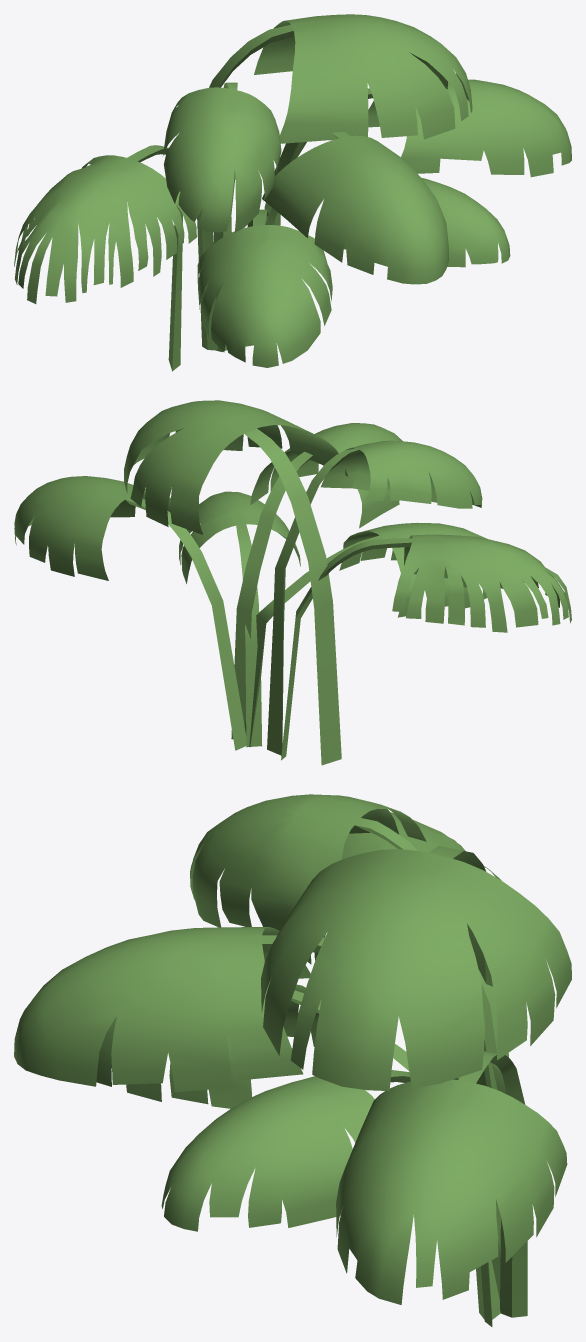
File: plant_cover_fantasy_A.fbx
3 views of the same model, one above another, from view 1: azimuth 30°, elevation 25°; view 2: azimuth 150°, elevation 25°; view 3: azimuth 270°, elevation 25° (orthographic). The views are drawn at different scales.
Visible parts, largest first — view 1: plant_cover_A_fantasy_leaf_05, plant_cover_fantasy_A, plant_cover_A_fantasy_leaf_01, plant_cover_A_fantasy_leaf_04, plant_cover_A_fantasy_leaf_06, plant_cover_A_fantasy_leaf_03; view 2: plant_cover_fantasy_A, plant_cover_A_fantasy_leaf_05, plant_cover_A_fantasy_leaf_03, plant_cover_A_fantasy_leaf_06, plant_cover_A_fantasy_leaf_01, plant_cover_A_fantasy_leaf_04; view 3: plant_cover_A_fantasy_leaf_05, plant_cover_A_fantasy_leaf_03, plant_cover_A_fantasy_leaf_01, plant_cover_fantasy_A, plant_cover_A_fantasy_leaf_06, plant_cover_A_fantasy_leaf_04.
Part boxes in pixels (x1=…): plant_cover_A_fantasy_leaf_05: x1=168, y1=14, x2=472, y2=371; plant_cover_fantasy_A: x1=14, y1=145, x2=510, y2=350; plant_cover_A_fantasy_leaf_01: x1=262, y1=132, x2=448, y2=284; plant_cover_A_fantasy_leaf_04: x1=197, y1=209, x2=332, y2=367; plant_cover_A_fantasy_leaf_06: x1=162, y1=82, x2=281, y2=351; plant_cover_A_fantasy_leaf_03: x1=292, y1=79, x2=571, y2=177; plant_cover_fantasy_A: x1=179, y1=491, x2=571, y2=760; plant_cover_A_fantasy_leaf_05: x1=124, y1=400, x2=347, y2=765; plant_cover_A_fantasy_leaf_03: x1=14, y1=476, x2=246, y2=750; plant_cover_A_fantasy_leaf_06: x1=267, y1=440, x2=482, y2=755; plant_cover_A_fantasy_leaf_01: x1=231, y1=423, x2=402, y2=739; plant_cover_A_fantasy_leaf_04: x1=244, y1=522, x2=487, y2=746; plant_cover_A_fantasy_leaf_05: x1=261, y1=846, x2=571, y2=1091; plant_cover_A_fantasy_leaf_03: x1=336, y1=1051, x2=567, y2=1317; plant_cover_A_fantasy_leaf_01: x1=14, y1=927, x2=492, y2=1326; plant_cover_fantasy_A: x1=161, y1=812, x2=508, y2=1299; plant_cover_A_fantasy_leaf_06: x1=190, y1=794, x2=500, y2=1254; plant_cover_A_fantasy_leaf_04: x1=96, y1=981, x2=500, y2=1319.
Size of the model in its own units: 313 by 171 by 182.
